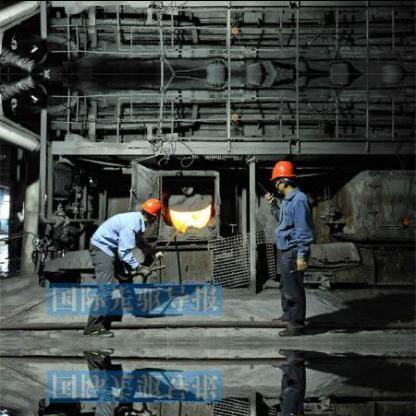Helmet: (266, 158, 298, 194), (138, 196, 164, 220)
